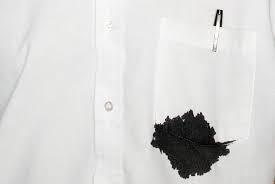gun: (150, 104, 231, 178)
